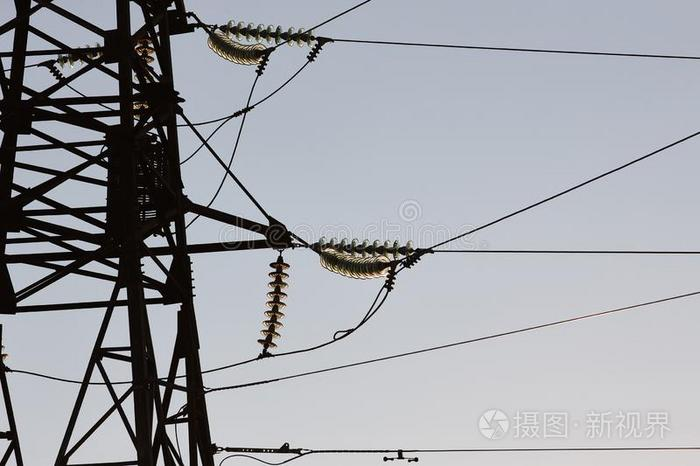insulator: (205, 18, 318, 63), (319, 232, 415, 277), (259, 260, 292, 349)
